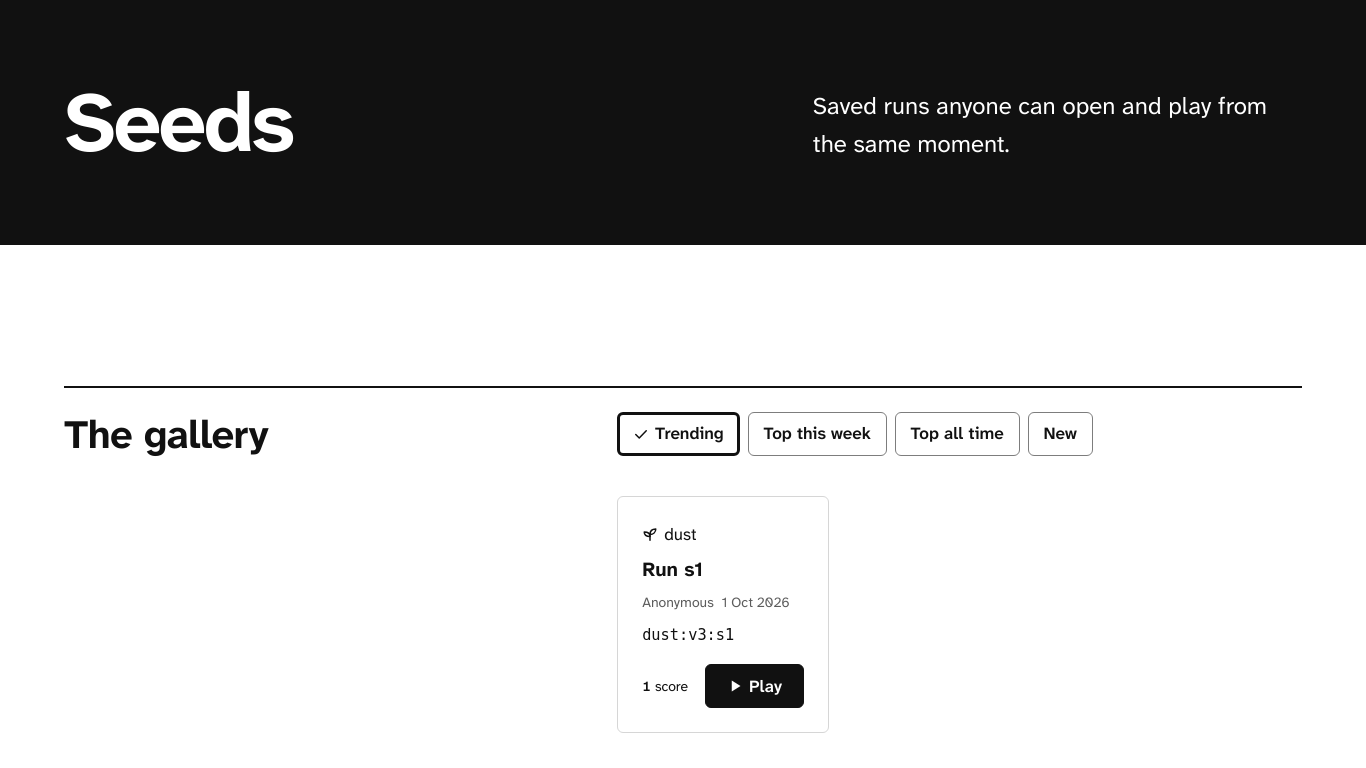
Test: the gallery sorts and saving your own seed › draw the sorts once the gallery lists a seed
# Top this week answers an empty page here: the sorts stay, so the reader can go back.
Step 1. Click the button "Top this week" → x=817, y=434, box left=748, top=412, right=887, bottom=456
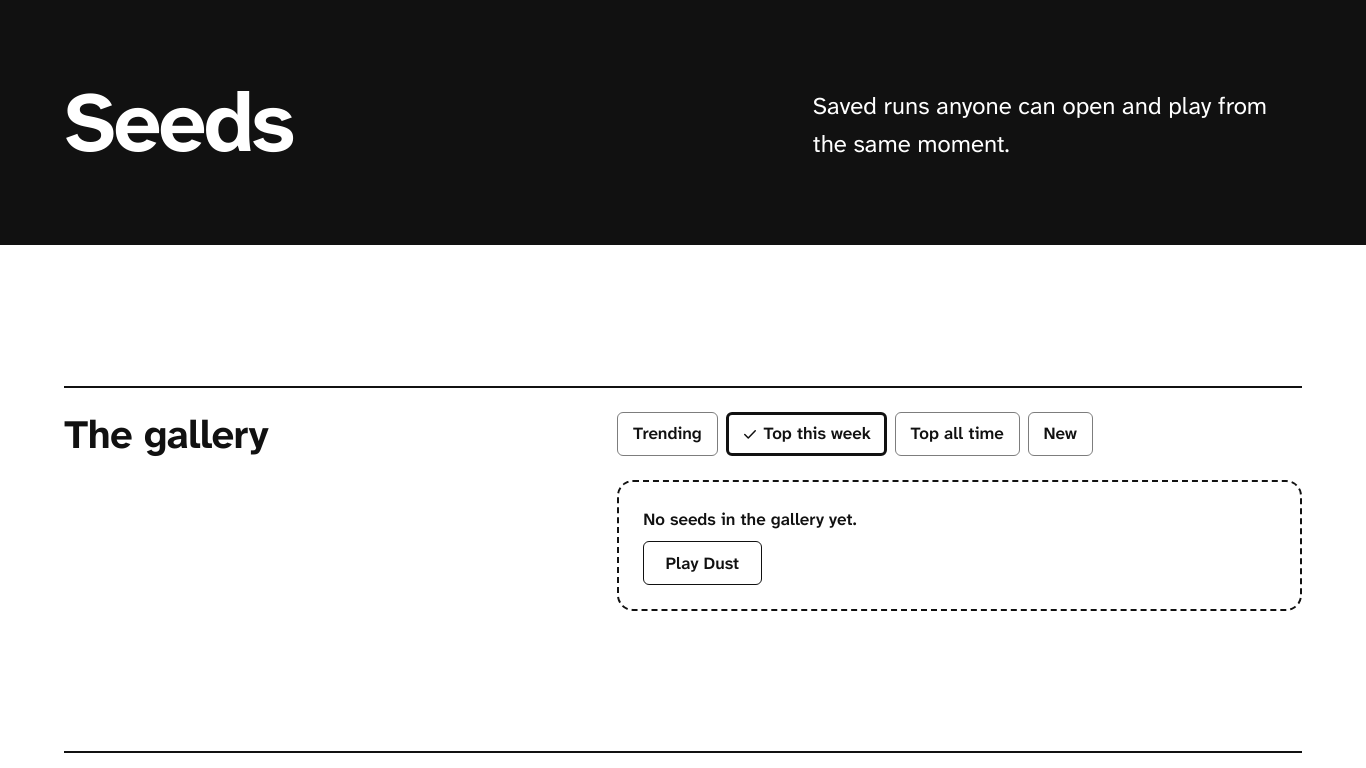
Expected: the element named "Sort seeds" is shown, left=617, top=412, right=1093, bottom=456
Result: the text "No seeds in the gallery yet." is shown at left=643, top=508, right=857, bottom=530
